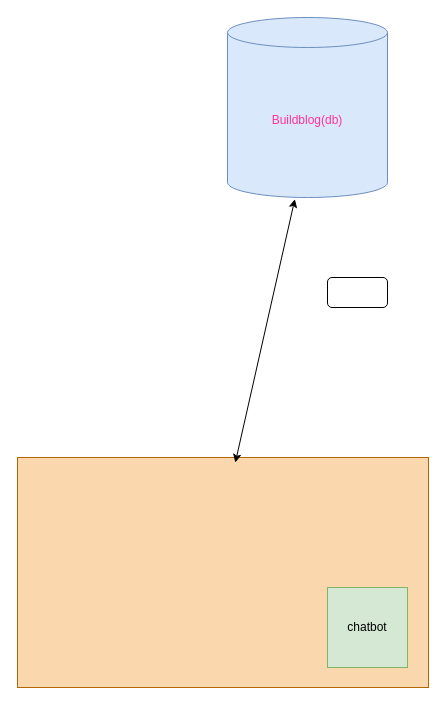
Image size: 446x705. Some labels were removed from this diagram. Each missing label, with the box of its shape:
Application: (16, 456, 428, 688)
Response: (326, 276, 388, 308)
